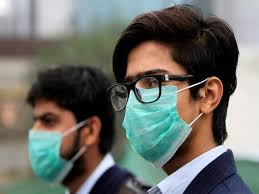surgical: (118, 86, 192, 169), (21, 125, 80, 184)
